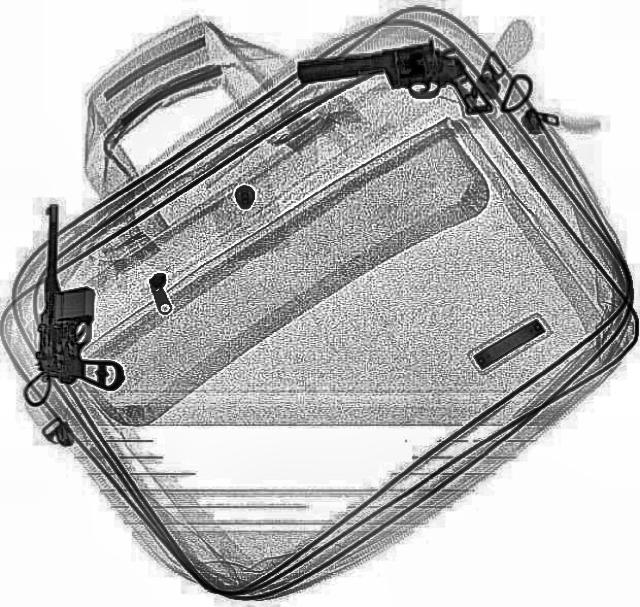Gun: (31, 202, 130, 396), (293, 38, 493, 126)
